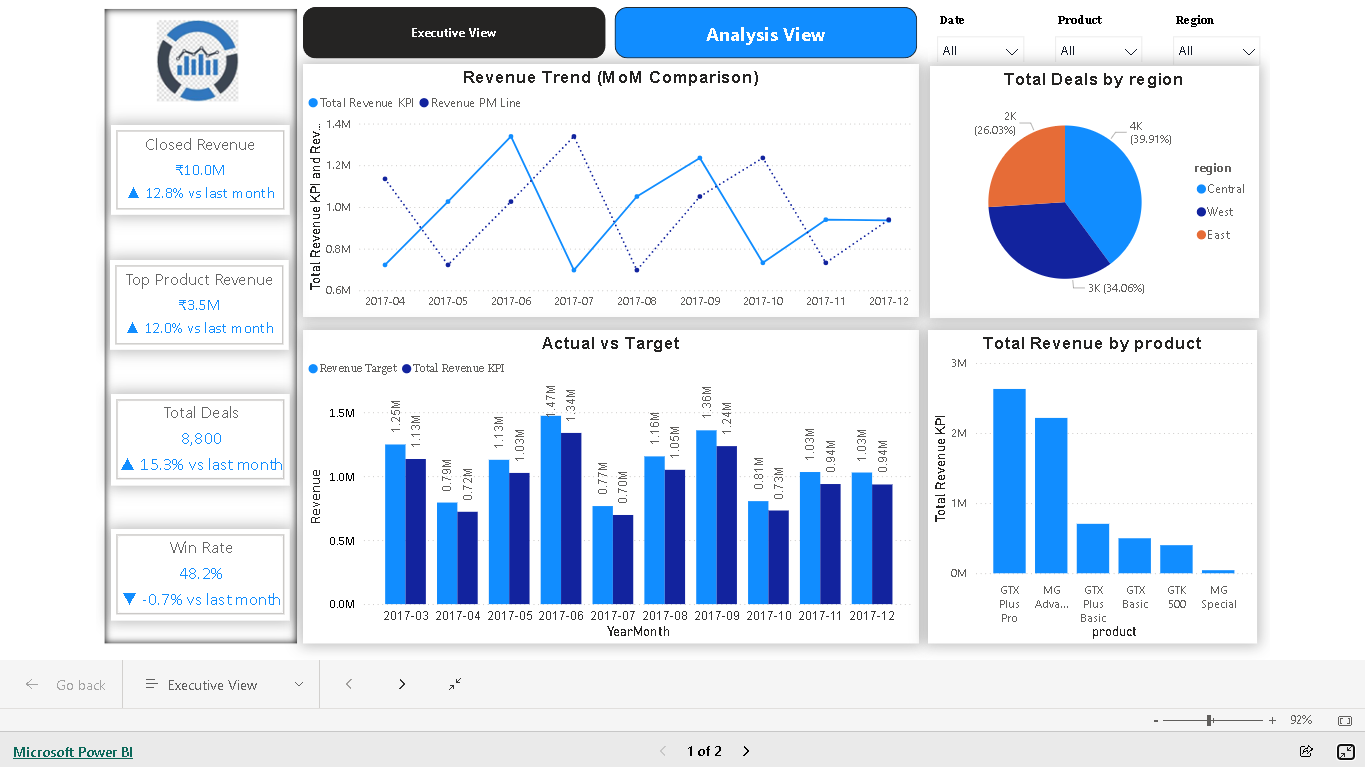

What the dashboard file says about the page in this screenshot:
{"tool":"powerbi","page":{"name":"Executive View","canvas":[1280,720],"ordinal":0},"visuals":[{"type":"cardVisual","title":"Total  Revenue","fields":{"Data":["_Measures.Revenue KPI Display"]},"box":[16,136.7,195.4,98.4],"z":0},{"type":"cardVisual","title":"Total  Revenue","fields":{"Data":["_Measures.Win Rate KPI"]},"box":[16,577.5,195.4,99.9],"z":1000},{"type":"cardVisual","title":"Total  Revenue","fields":{"Data":["_Measures.Deals KPI"]},"box":[16,429.6,195.4,99.9],"z":2000},{"type":"lineChart","title":"Revenue Trend (MoM Comparison)","fields":{"Y":["_Measures.Total Revenue KPI","_Measures.Revenue PM Line"],"Category":["DateTable.YearMonth"]},"box":[226.3,70,671.5,276.2],"z":3000},{"type":"clusteredColumnChart","title":"Actual vs Target","fields":{"Category":["DateTable.YearMonth"],"Y":["_Measures.Revenue Target","_Measures.Total Revenue KPI"]},"box":[226.3,360,671.5,342.4],"z":4000},{"type":"slicer","fields":{"Values":["DateTable.Date Hierarchy.Month"]},"box":[908.1,7.3,114.6,60.2],"z":5000},{"type":"slicer","fields":{"Values":["fact_sales.product"]},"box":[1036.3,7.3,115,60.2],"z":6000},{"type":"slicer","fields":{"Values":["dim_sales_teams.region"]},"box":[1165,7.3,115,63.2],"z":7000},{"type":"pieChart","title":"Total Deals by region","fields":{"Category":["dim_sales_teams.region"],"Y":["_Measures.Total Deals KPI"]},"box":[910,72,358.5,275],"z":8000},{"type":"columnChart","title":"Total Revenue by product","fields":{"Category":["dim_products.product"],"Y":["_Measures.Total Revenue KPI"]},"box":[908.1,360,358.5,342.4],"z":9000},{"type":"pageNavigator","box":[226.3,7.3,671.5,56],"z":10000},{"type":"cardVisual","title":"Total  Revenue","fields":{"Data":["_Measures.Top Product Revenue"]},"box":[15.7,283.1,195.5,98.5],"z":11000}]}

Visuals, with their boxes on the page's 1280x720 design canvas (x1, y1, x2, y2). These are canvas units, not pixel positions in the 1365x767 screenshot, which may show the page scaled, cropped or inside an application window:
"Total  Revenue" cardVisual: <bbox>16, 137, 211, 235</bbox>
"Total  Revenue" cardVisual: <bbox>16, 578, 211, 677</bbox>
"Total  Revenue" cardVisual: <bbox>16, 430, 211, 530</bbox>
"Revenue Trend (MoM Comparison)" lineChart: <bbox>226, 70, 898, 346</bbox>
"Actual vs Target" clusteredColumnChart: <bbox>226, 360, 898, 702</bbox>
slicer - DateTable.Date Hierarchy.Month: <bbox>908, 7, 1023, 68</bbox>
slicer - fact_sales.product: <bbox>1036, 7, 1151, 68</bbox>
slicer - dim_sales_teams.region: <bbox>1165, 7, 1280, 70</bbox>
"Total Deals by region" pieChart: <bbox>910, 72, 1268, 347</bbox>
"Total Revenue by product" columnChart: <bbox>908, 360, 1267, 702</bbox>
pageNavigator: <bbox>226, 7, 898, 63</bbox>
"Total  Revenue" cardVisual: <bbox>16, 283, 211, 382</bbox>
